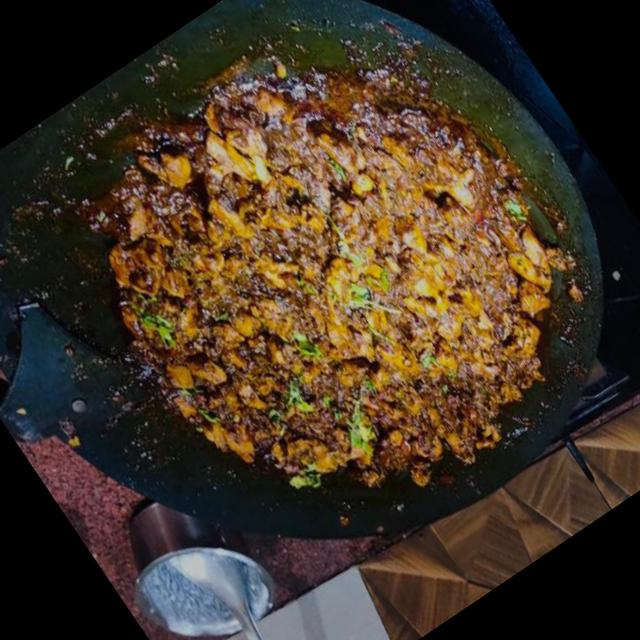chicken: (44, 0, 617, 577)
